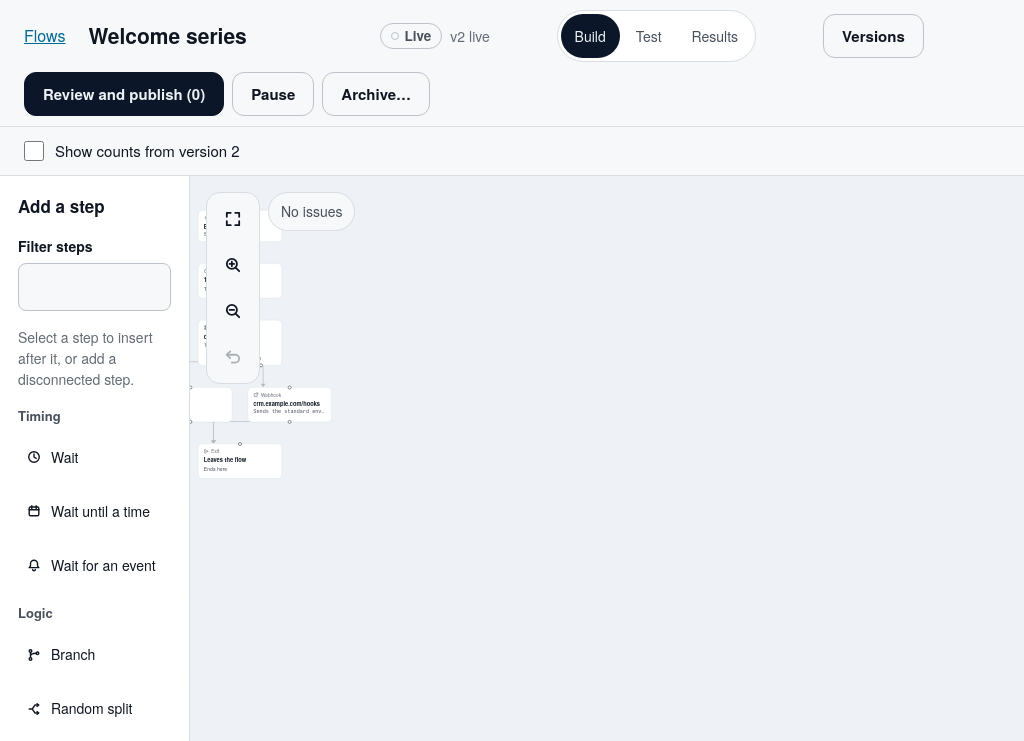
Test: lifecycle actions and a publish in flight › does not let a slow refetch that arrives last overwrite a newer applied state
Step 1. Click the button "Review and publish (0)" → (124, 94), box [24,72,224,116]
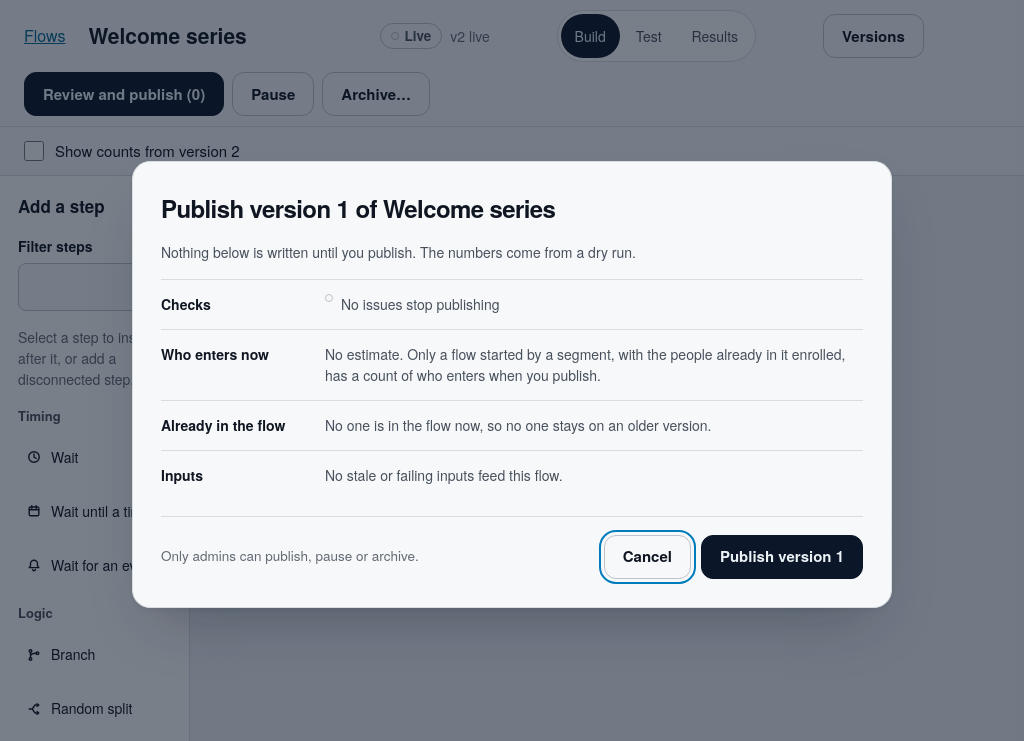
Step 2. Click the button "Publish version 1" → (782, 556), box [701,534,863,578]
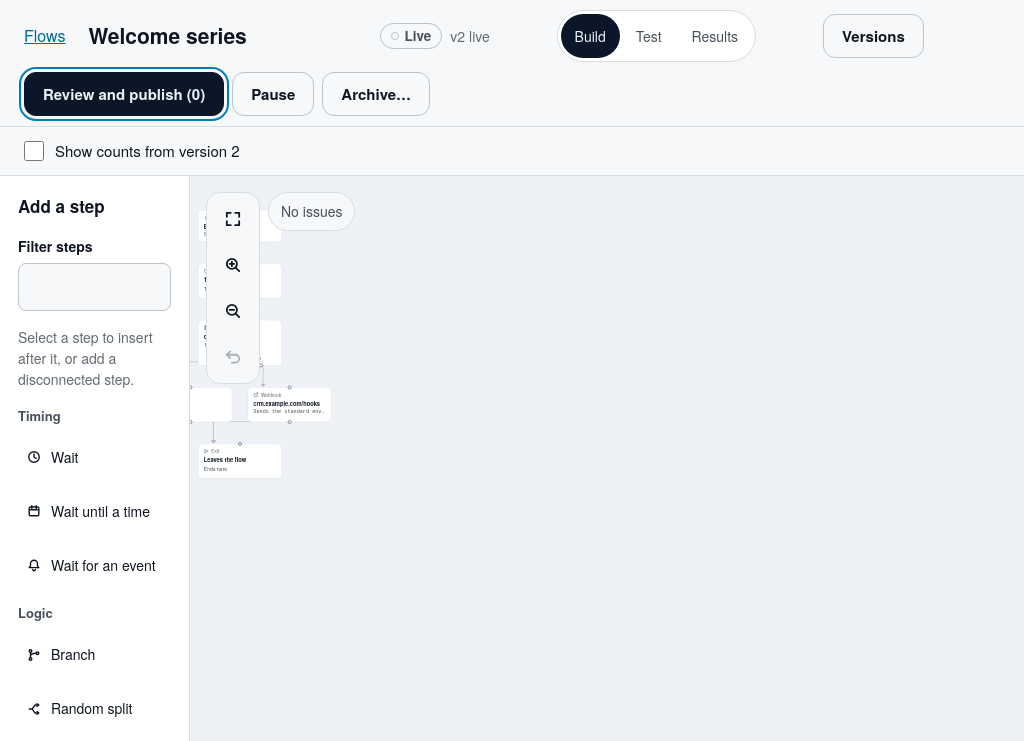
Result: the dialog is gone
Step 3. Click the button "Pause" → (273, 94), box [232,72,314,116]
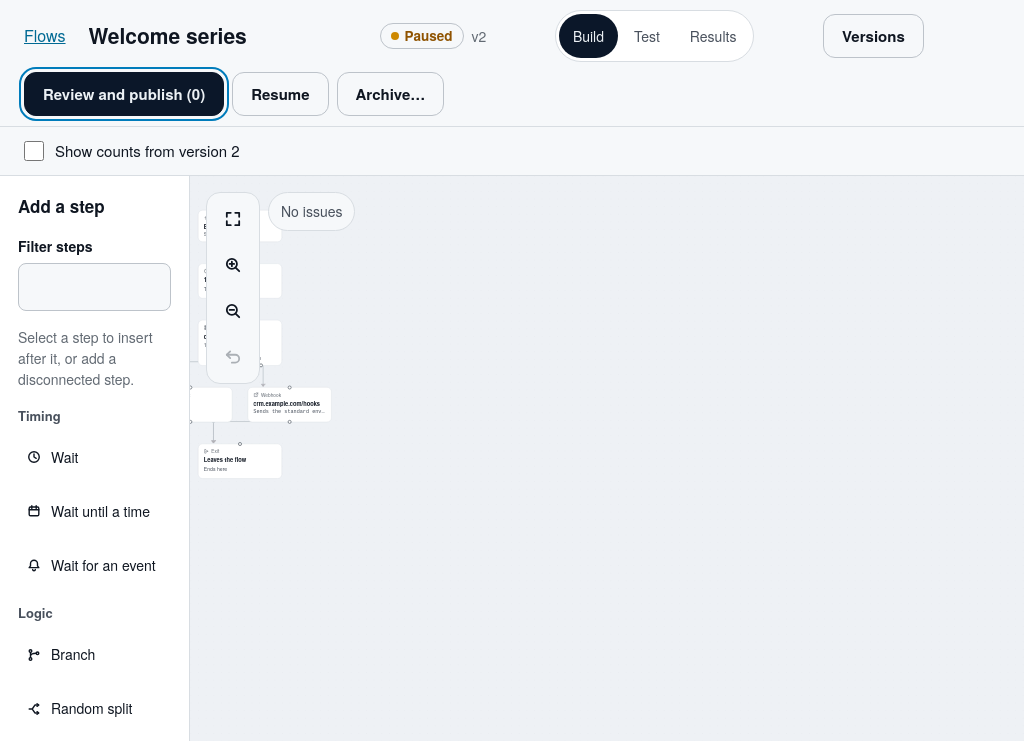
Result: the text "Paused" is shown at [380,23,464,49]
Result: the button "Resume" is shown at [232,72,329,116]
